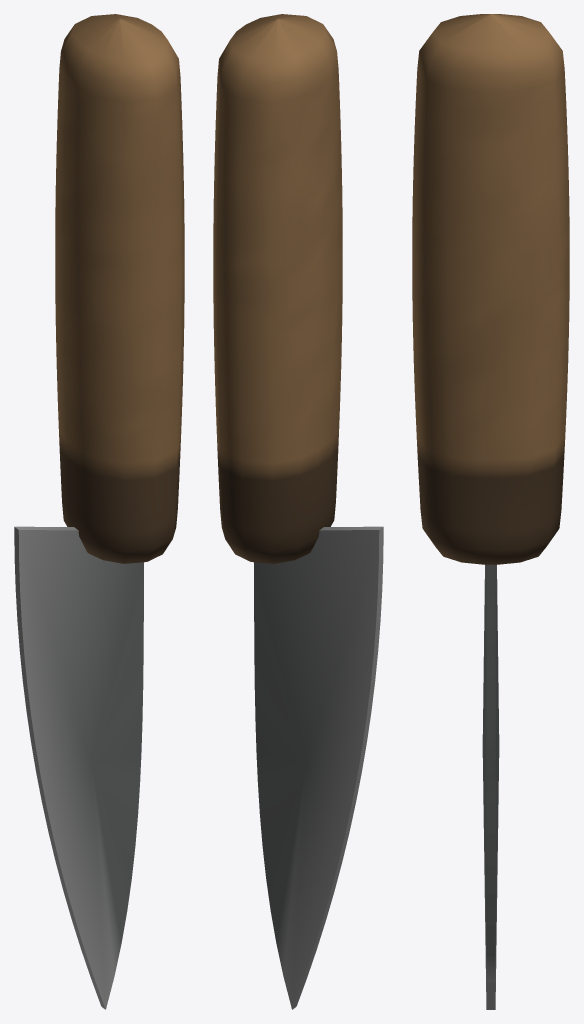
File: gathering-knife.glb
The picture shows the model from 3 angles, left to right: view 1: azimuth 30°, elevation 25°; view 2: azimuth 150°, elevation 25°; view 3: azimuth 270°, elevation 25°; orthographic projection.
Visible parts, largest first — view 1: gathering-knife; view 2: gathering-knife; view 3: gathering-knife.
Part boxes in pixels (box(x1,y1,x2,y2)): gathering-knife: box(14, 14, 184, 1009); gathering-knife: box(213, 14, 383, 1009); gathering-knife: box(412, 14, 569, 1009).
Bounding box in the file's own units: 0.0281 × 0.173 × 0.0246.
